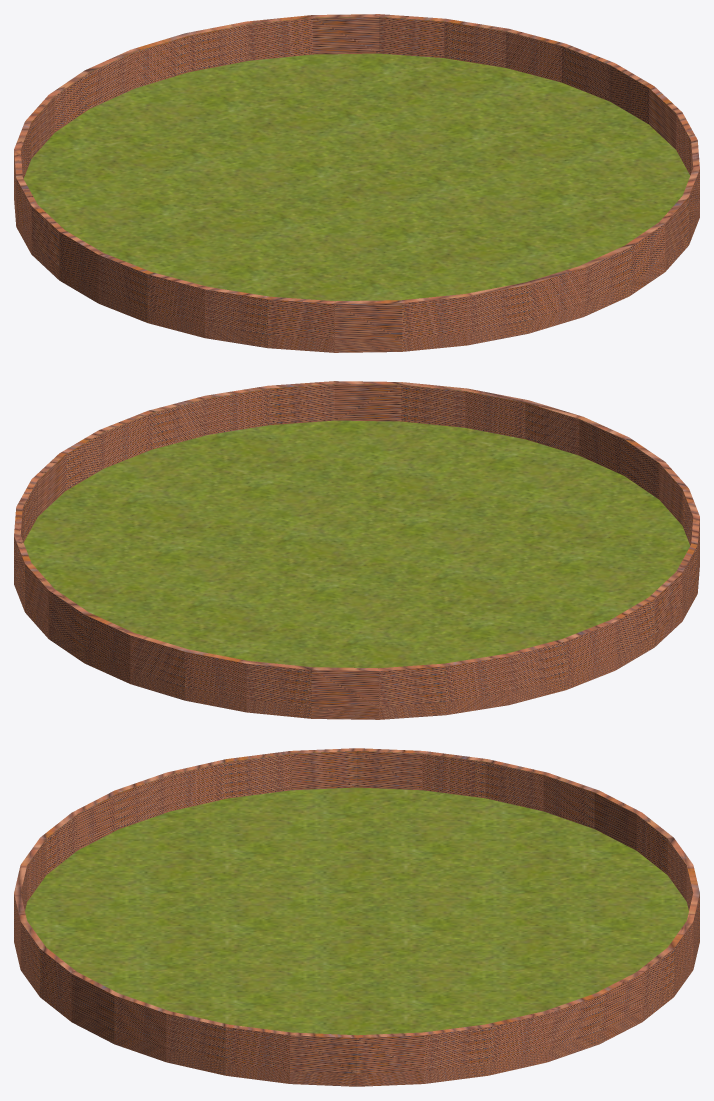
The model's file is lawn_round.glb.
3 views of the same model, one above another, from view 1: azimuth 30°, elevation 25°; view 2: azimuth 150°, elevation 25°; view 3: azimuth 270°, elevation 25° (orthographic).
Visible parts, largest first — view 1: lawn_round; view 2: lawn_round; view 3: lawn_round.
Part boxes in pixels (x1,y1,x2,y2): lawn_round: [14, 14, 699, 352]; lawn_round: [14, 381, 699, 719]; lawn_round: [14, 748, 699, 1086].
Size of the model in its own units: 102 by 8 by 102.
Materials: 1 (1 with a texture image).
